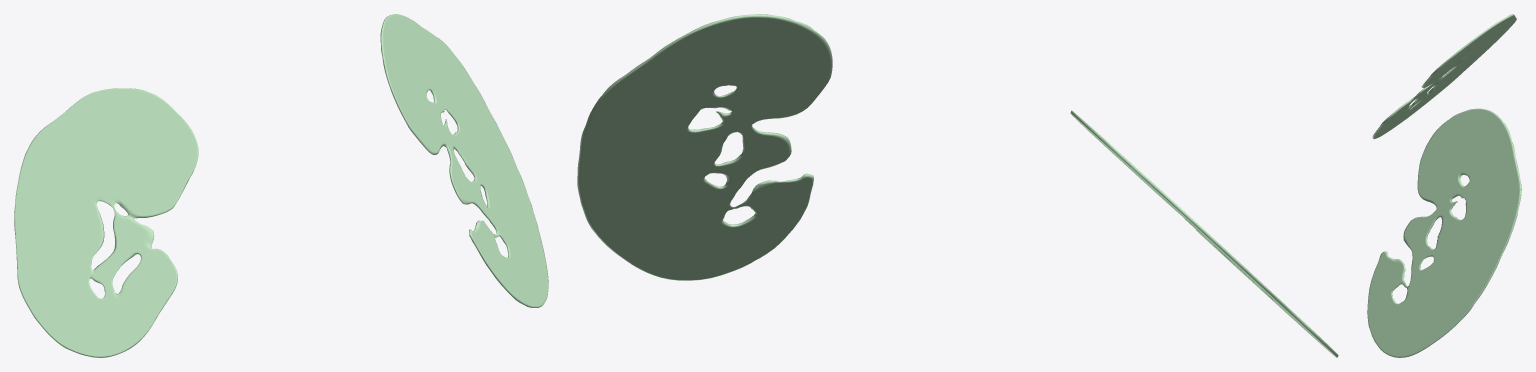
Rendered from VH_F_Kidney_Extraction_Sites_v1.0.glb.
The picture shows the model from 3 angles, left to right: view 1: azimuth 30°, elevation 25°; view 2: azimuth 150°, elevation 25°; view 3: azimuth 270°, elevation 25°; orthographic projection. The views are drawn at different scales.
Visible parts, largest first — view 1: VHF_kidney_bisection_line_R, VHF_kidney_bisection_line_L; view 2: VHF_kidney_bisection_line_L, VHF_kidney_bisection_line_R; view 3: VHF_kidney_bisection_line_L, VHF_kidney_bisection_line_R.
Boxes of the visible parts, <box> form: VHF_kidney_bisection_line_R: <box>14,88,198,357</box>; VHF_kidney_bisection_line_L: <box>380,14,548,307</box>; VHF_kidney_bisection_line_L: <box>577,14,832,280</box>; VHF_kidney_bisection_line_R: <box>1070,110,1338,357</box>; VHF_kidney_bisection_line_L: <box>1367,108,1521,357</box>; VHF_kidney_bisection_line_R: <box>1372,14,1516,139</box>.
Size of the model in its own units: 0.226 by 0.109 by 0.0731.
